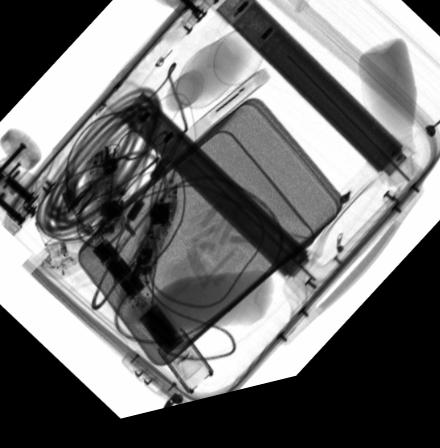Baton: (82, 231, 213, 404)
